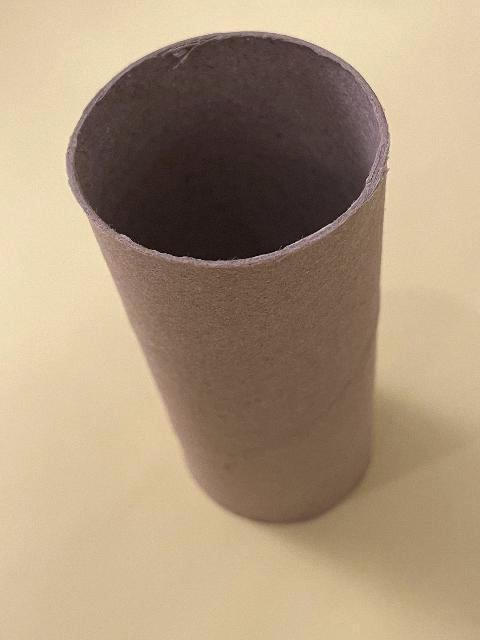tissueroll: (63, 28, 393, 530)
